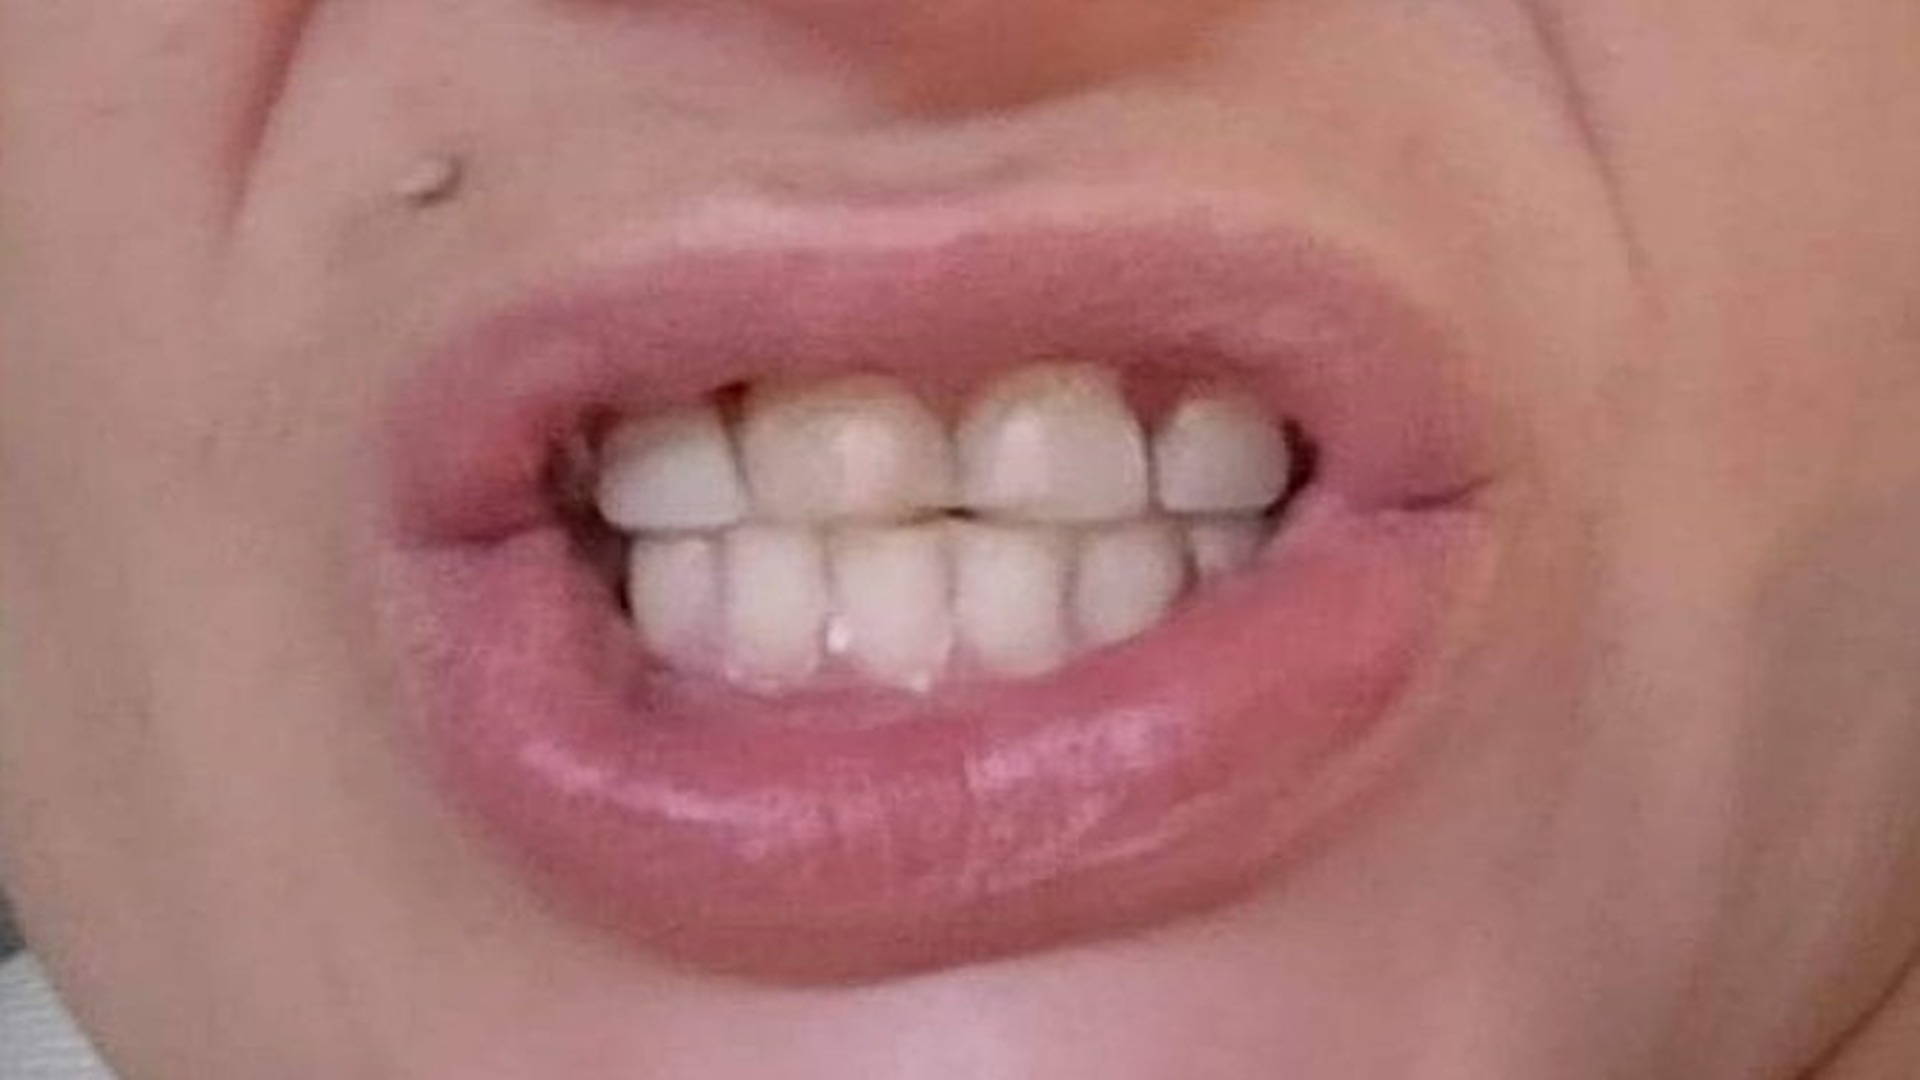tooth: (948, 361, 1147, 522)
